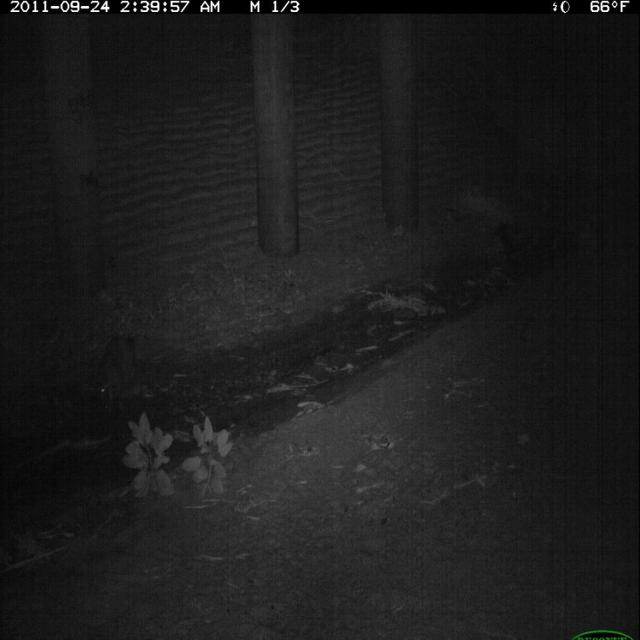raccoon: (90, 329, 144, 417)
